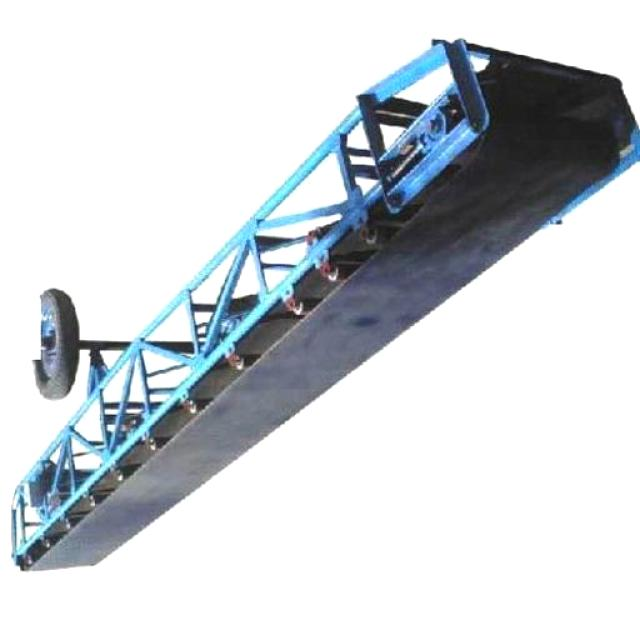conveyor: (22, 48, 630, 569)
